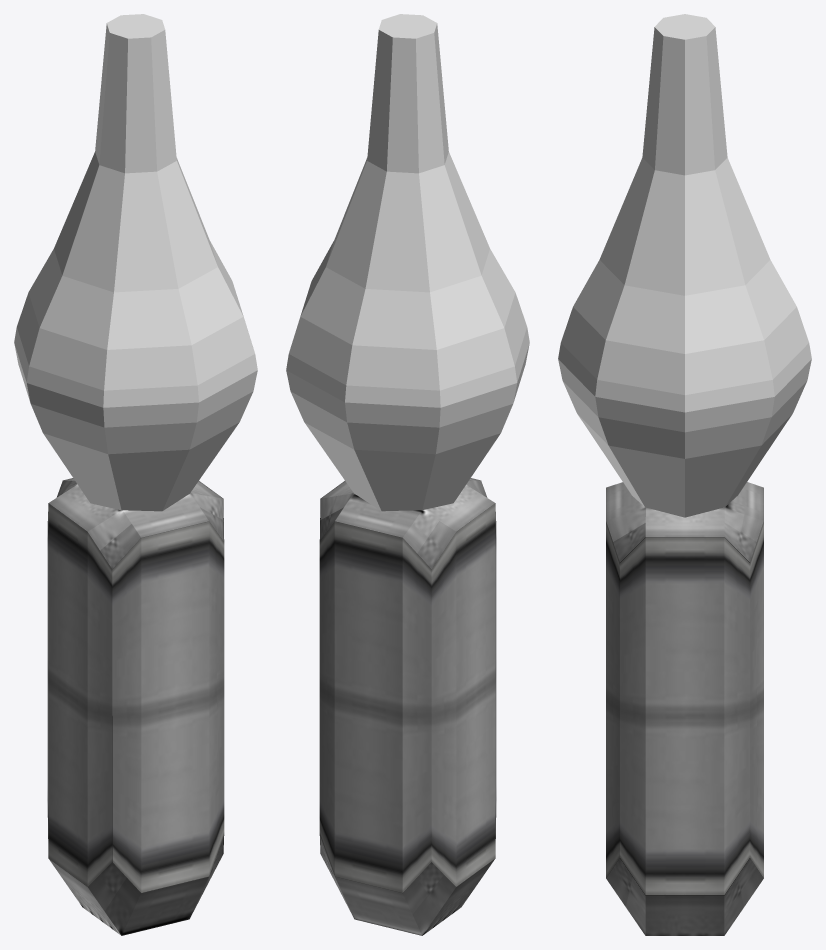
File: saint_lamp.fbx
3 views of the same model, side by side, from view 1: azimuth 30°, elevation 25°; view 2: azimuth 150°, elevation 25°; view 3: azimuth 270°, elevation 25° (orthographic).
Visible parts, largest first — view 1: Cylinder; view 2: Cylinder; view 3: Cylinder.
Boxes of the visible parts, bbox=[...] form: Cylinder: bbox=[14, 14, 257, 935]; Cylinder: bbox=[286, 14, 529, 935]; Cylinder: bbox=[558, 14, 811, 935].
Bounding box in the file's own units: 64.34 × 250 × 64.34.
2 materials, 1 textured.
